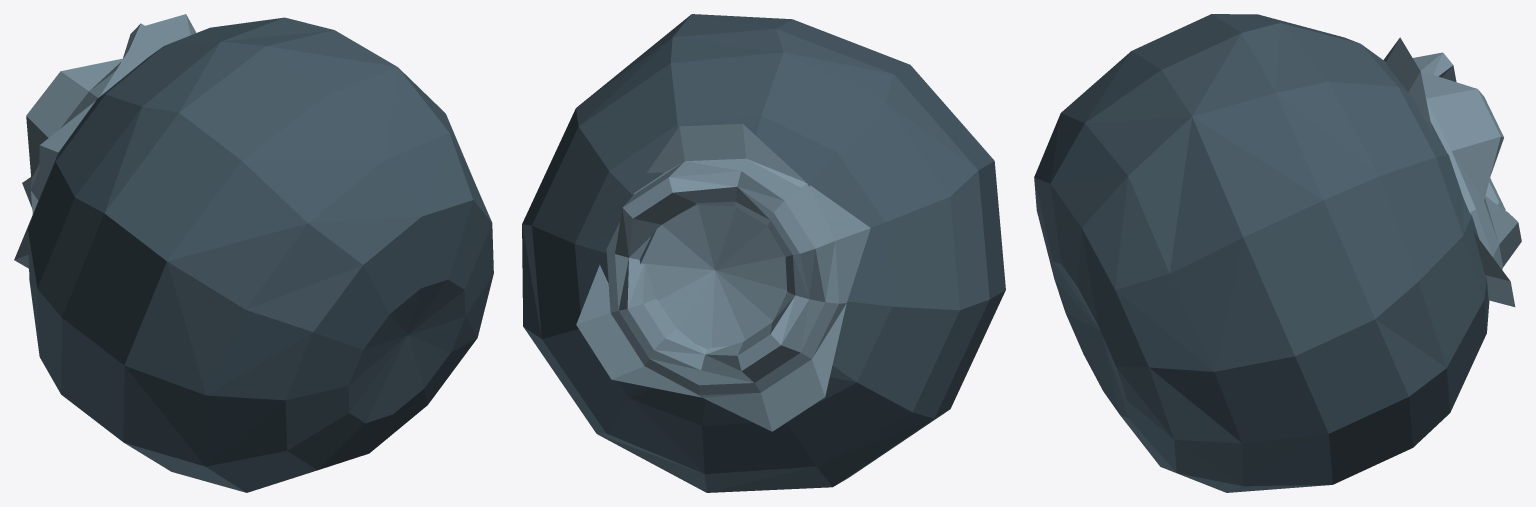
Rendered from Berry.fbx.
3 views of the same model, side by side, from view 1: azimuth 30°, elevation 25°; view 2: azimuth 150°, elevation 25°; view 3: azimuth 270°, elevation 25° (orthographic). The views are drawn at different scales.
Visible parts, largest first — view 1: model.001; view 2: model.001; view 3: model.001.
Boxes of the visible parts, left/top/right/bottom form: model.001: left=14, top=14, right=493, bottom=492; model.001: left=522, top=14, right=1005, bottom=492; model.001: left=1034, top=14, right=1521, bottom=492.
Bounding box in the file's own units: 0.2124 × 0.2096 × 0.2113.
